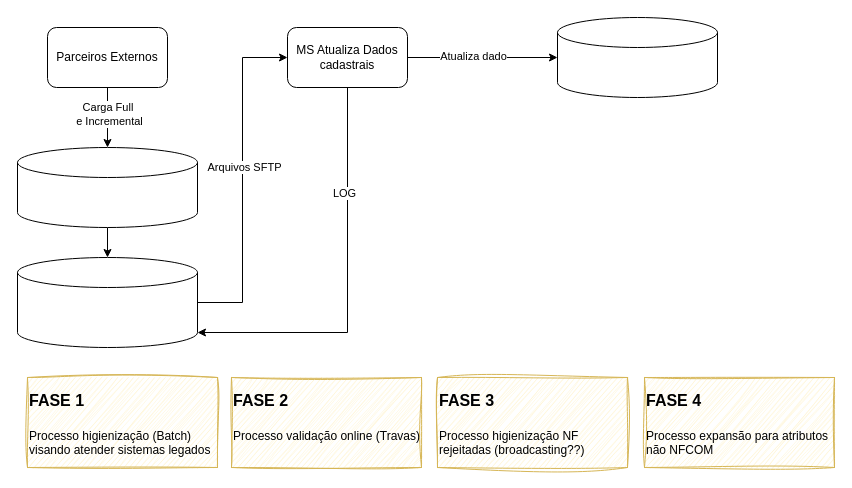
This 852x488 diagram has some shape labels left out. Each missing label, with the box of its shape:
HUB DE DADOS/ IDMC (Integração Massiva): (16, 256, 198, 348)
NETSMS: (556, 16, 718, 98)
Processo Datacare Base BVC (Doc CPF e CNPJ): (16, 146, 198, 228)
